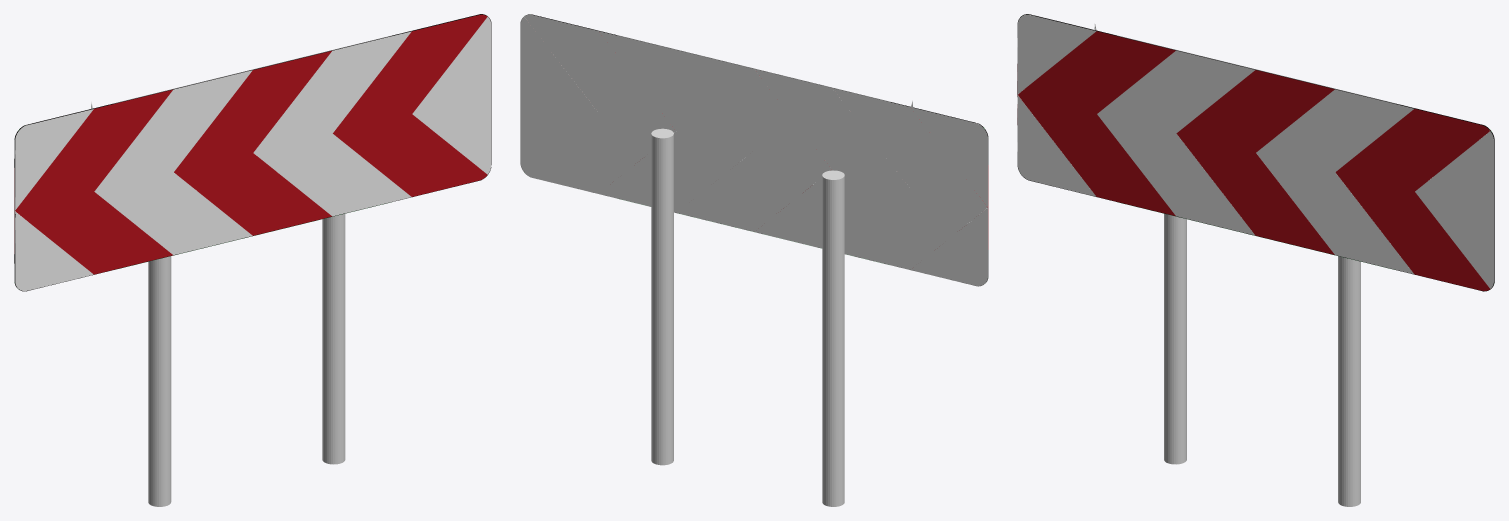
File: Sharp_turn_left_long_2_legs.dae
3 views of the same model, side by side, from view 1: azimuth 30°, elevation 25°; view 2: azimuth 150°, elevation 25°; view 3: azimuth 330°, elevation 25° (orthographic).
Visible parts, largest first — view 1: path2457, Cylinder, Cylinder.001; view 2: path2457, Cylinder, Cylinder.001; view 3: path2457, Cylinder.001, Cylinder.
Boxes of the visible parts, left/top/right/bottom form: path2457: left=14, top=14, right=491, bottom=291; Cylinder: left=322, top=134, right=345, bottom=464; Cylinder.001: left=148, top=256, right=171, bottom=506; path2457: left=520, top=14, right=988, bottom=286; Cylinder: left=651, top=128, right=673, bottom=465; Cylinder.001: left=822, top=170, right=844, bottom=506; path2457: left=1017, top=14, right=1494, bottom=291; Cylinder.001: left=1164, top=213, right=1186, bottom=464; Cylinder: left=1338, top=256, right=1360, bottom=506.
Size of the model in its own units: 0.2994 by 0.0139 by 0.254.
